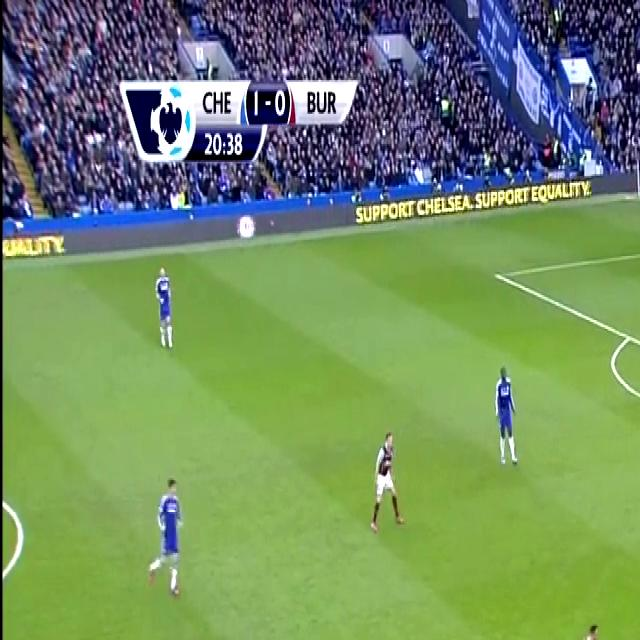soccer-player: (142, 470, 188, 610), (368, 421, 408, 535), (489, 359, 522, 482), (145, 255, 179, 361), (570, 606, 604, 640)
